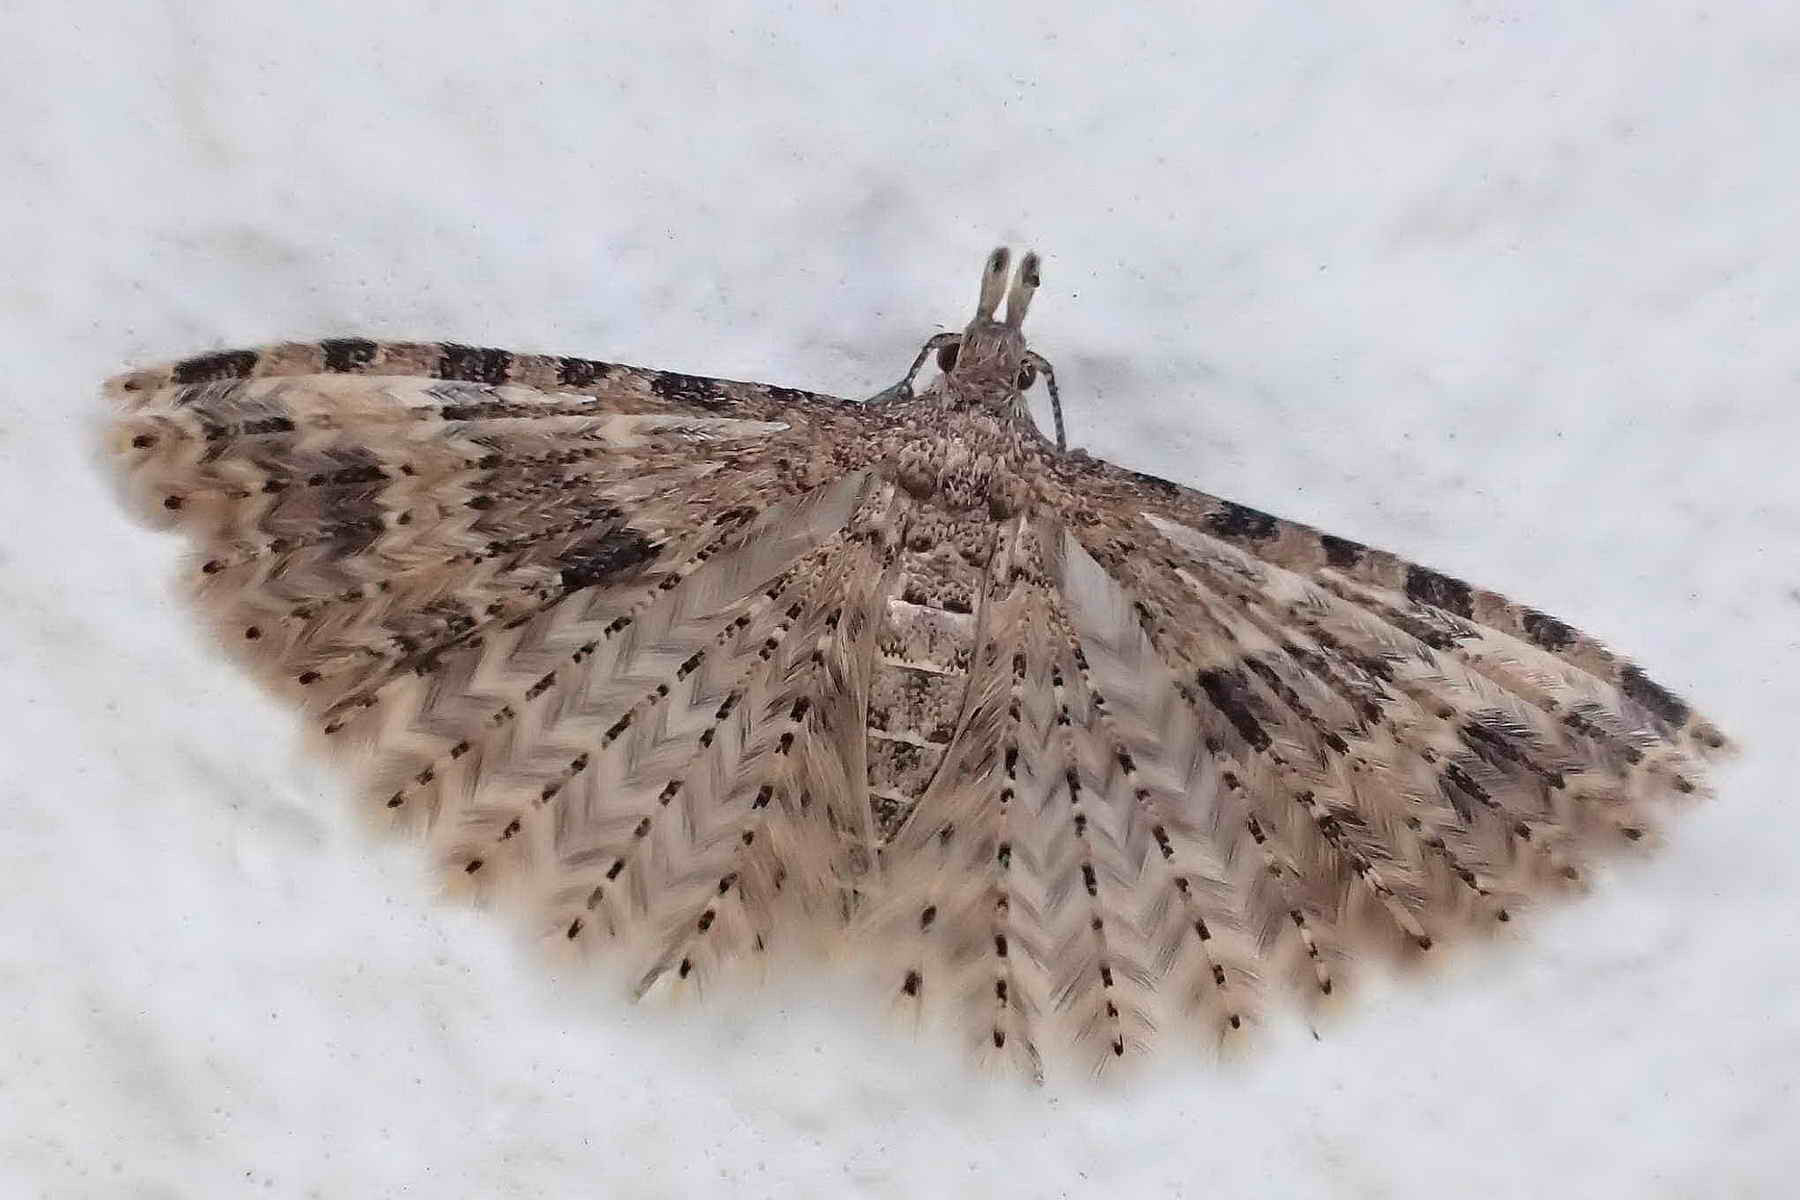Alucitidae: (63, 242, 1738, 1098)
moth: (62, 241, 1737, 1096)
